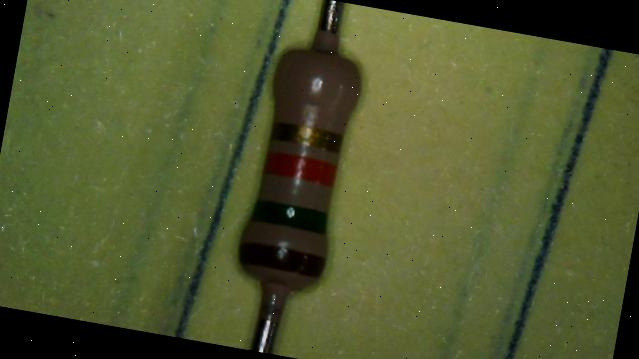brown: (237, 242, 329, 276)
gold: (272, 120, 344, 151)
green: (251, 197, 331, 235)
orange: (268, 149, 336, 182)
resistor: (218, 23, 382, 312)
